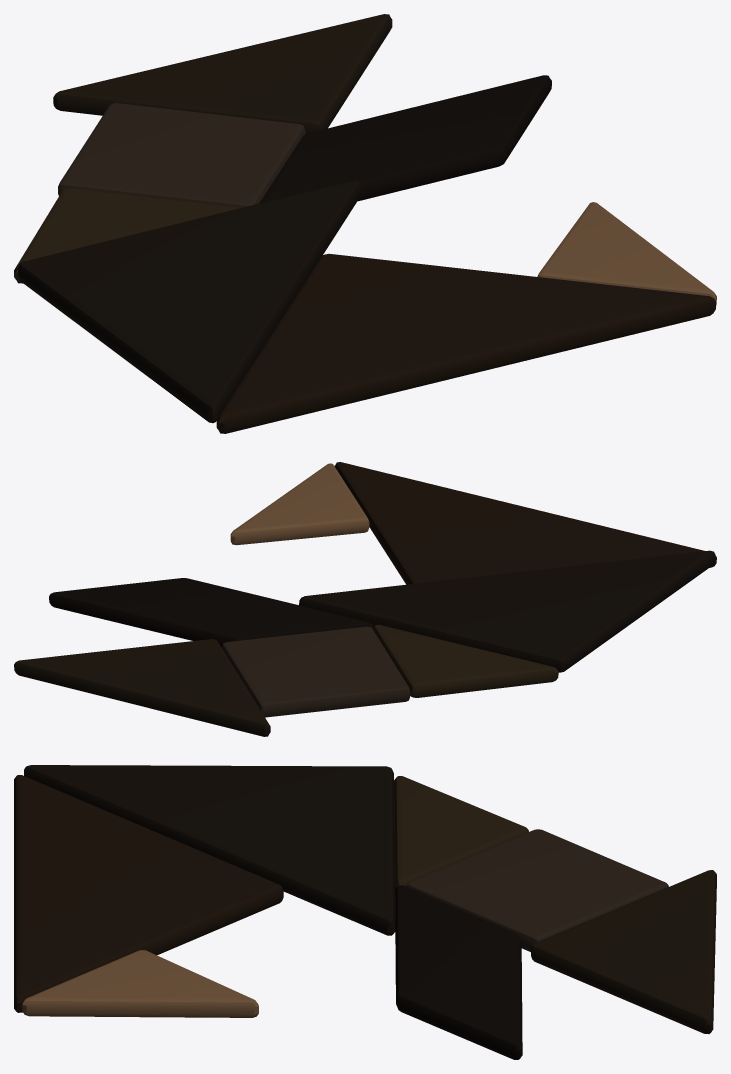
Rendered from osoanteojos_figura.obj.
The picture shows the model from 3 angles, top to bottom: view 1: azimuth 30°, elevation 25°; view 2: azimuth 150°, elevation 25°; view 3: azimuth 270°, elevation 25°; orthographic projection. The views are drawn at different scales.
Visible parts, largest first — view 1: polySurface5, polySurface2, polySurface4, polySurface7, polySurface3, polySurface1, polySurface6; view 2: polySurface2, polySurface5, polySurface4, polySurface3, polySurface7, polySurface6, polySurface1; view 3: polySurface2, polySurface5, polySurface4, polySurface7, polySurface3, polySurface1, polySurface6.
Boxes of the visible parts, x1,y1,x2,y2 form: polySurface5: (216, 253, 715, 433); polySurface2: (18, 180, 362, 423); polySurface4: (53, 14, 392, 133); polySurface7: (259, 75, 551, 203); polySurface3: (58, 103, 305, 207); polySurface1: (537, 202, 716, 305); polySurface6: (14, 188, 242, 283); polySurface2: (299, 550, 715, 672); polySurface5: (334, 462, 716, 584); polySurface4: (14, 639, 270, 736); polySurface3: (221, 626, 410, 717); polySurface7: (49, 578, 373, 647); polySurface6: (373, 624, 558, 697); polySurface1: (230, 463, 369, 545); polySurface2: (24, 765, 395, 935); polySurface5: (14, 775, 283, 1012); polySurface4: (531, 870, 716, 1033); polySurface7: (395, 885, 522, 1059); polySurface3: (406, 829, 668, 951); polySurface1: (22, 950, 258, 1017); polySurface6: (394, 776, 528, 888).
Size of the model in its own units: 13.79 by 0.6191 by 14.9.
